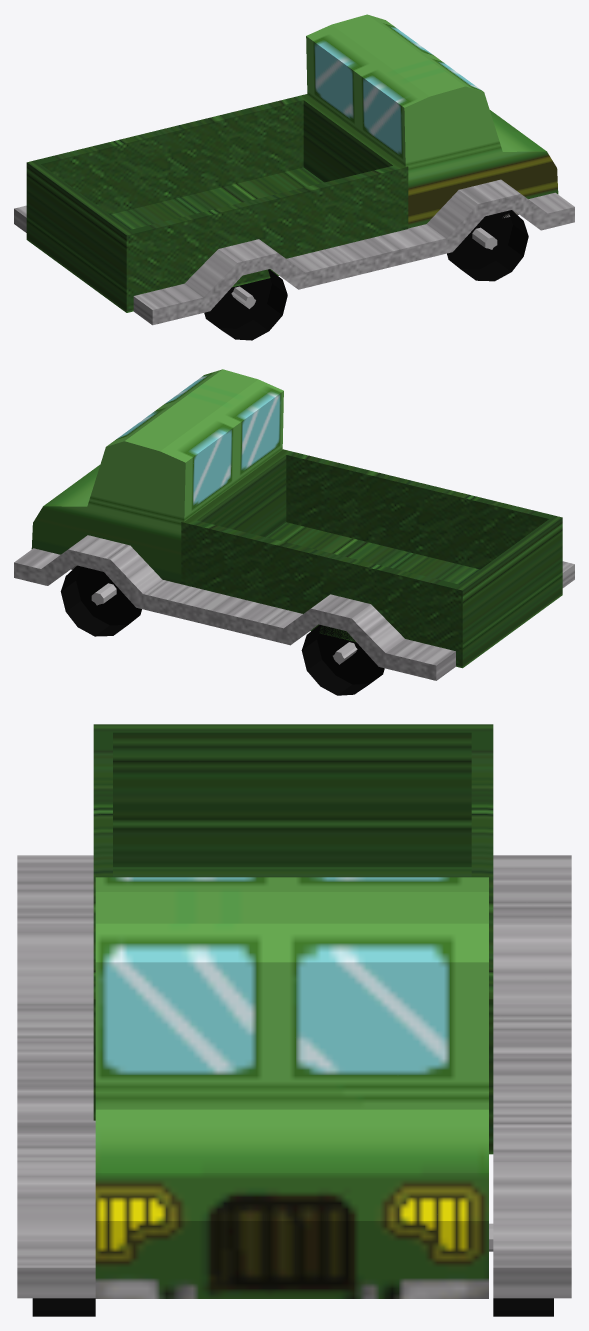
Rendered from Altiz.glb.
3 views of the same model, one above another, from view 1: azimuth 30°, elevation 25°; view 2: azimuth 150°, elevation 25°; view 3: azimuth 270°, elevation 25° (orthographic). The views are drawn at different scales.
Visible parts, largest first — view 1: Altiz; view 2: Altiz; view 3: Altiz.
Boxes of the visible parts, box(x1,y1,x2,y2) form: Altiz: box(14, 14, 574, 340); Altiz: box(14, 369, 574, 695); Altiz: box(17, 724, 571, 1316).
Size of the model in its own units: 333 by 137 by 185.
Materials: 1 (1 with a texture image).
